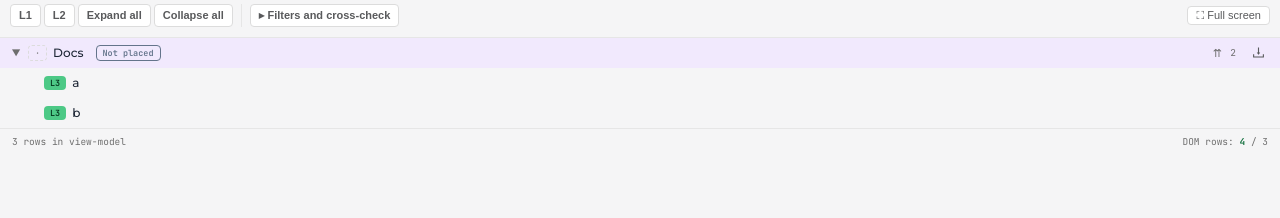
Scenario: cross-check toggle › stops counting a reason when its chip is switched off, and keeps the mark
Click the button "▸ Filters and cross-check": [325, 15] box top-left (250, 4), bottom-right (399, 26)
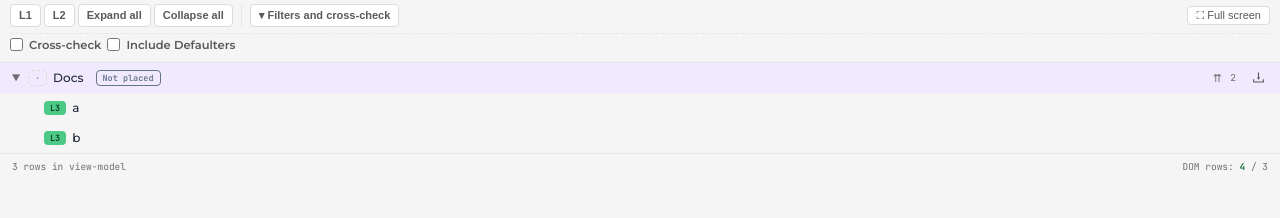
Click the checkbox labelled "Cross-check": [16, 44] box top-left (10, 38), bottom-right (23, 51)
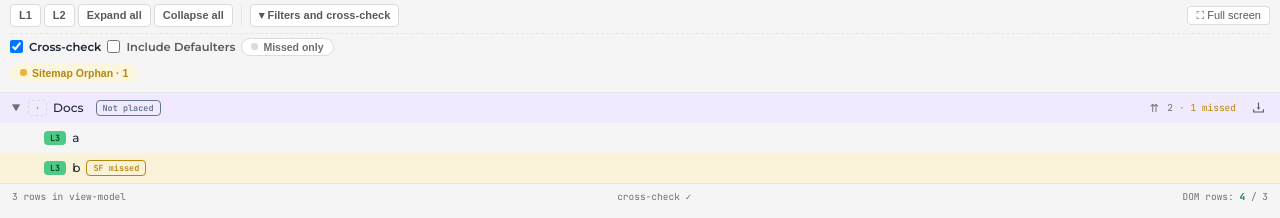
Click the button "Sitemap Orphan · 1": [74, 72] box top-left (10, 64), bottom-right (138, 82)
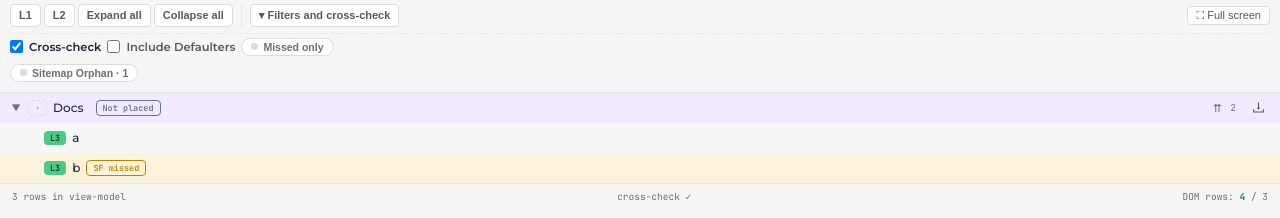
expect the number of elements with class "xmark-missed" is 1: met, box top-left (86, 160), bottom-right (146, 176)
expect the text "· 1 missed" is gone: met
